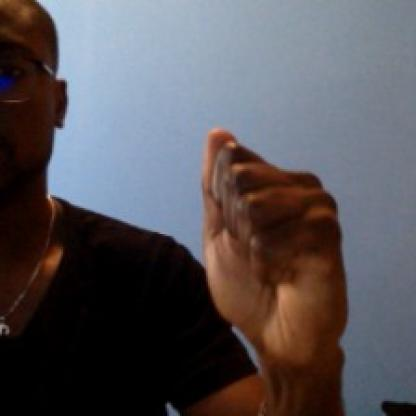BACKWARD: (192, 101, 366, 396)
